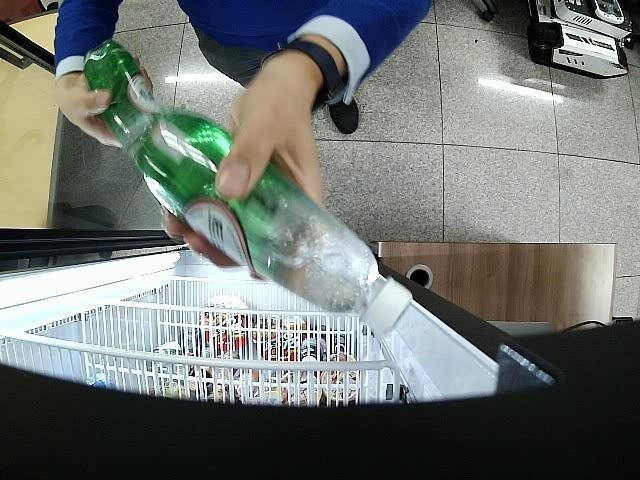18_trevi: (140, 107, 415, 340), (83, 40, 159, 150)
